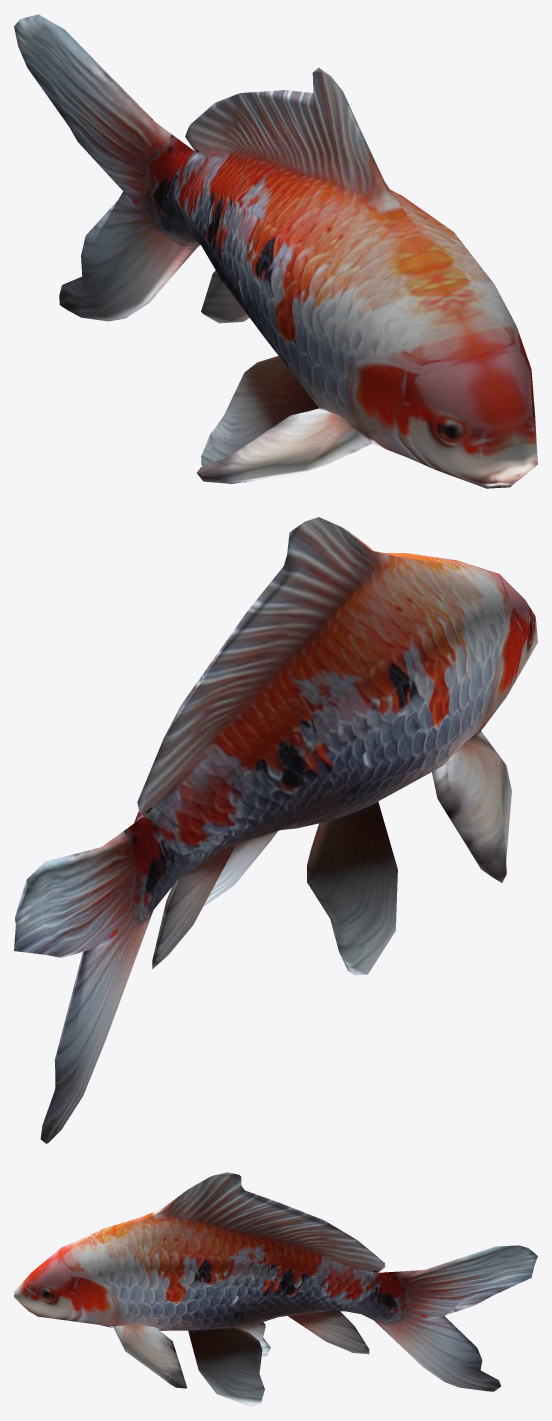
File: koifish.fbx
3 views of the same model, one above another, from view 1: azimuth 30°, elevation 25°; view 2: azimuth 150°, elevation 25°; view 3: azimuth 270°, elevation 25° (orthographic). The views are drawn at different scales.
Parts seen in each view (by area): view 1: koifish; view 2: koifish; view 3: koifish.
Boxes of the visible parts, x1=… form: koifish: x1=14, y1=14, x2=537, y2=488; koifish: x1=14, y1=517, x2=537, y2=1143; koifish: x1=14, y1=1172, x2=537, y2=1406.
Bounding box in the file's own units: 0.2319 × 0.6239 × 0.2893.
